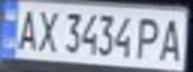3: (60, 8, 84, 54), (97, 11, 118, 57)
4: (112, 11, 139, 60), (78, 9, 100, 56)
A: (12, 4, 42, 52), (157, 14, 187, 62)
P: (133, 14, 163, 61)
X: (33, 6, 60, 53)
